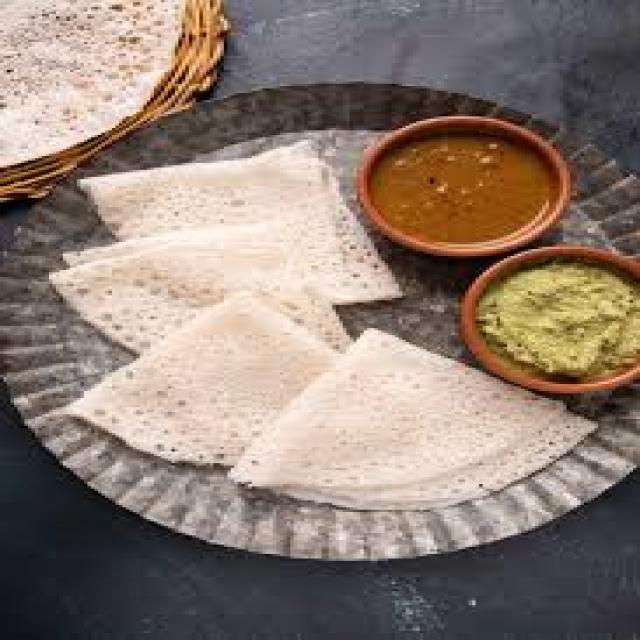DOSA: (230, 327, 603, 514), (83, 147, 400, 307), (71, 289, 340, 467), (50, 217, 357, 355)
